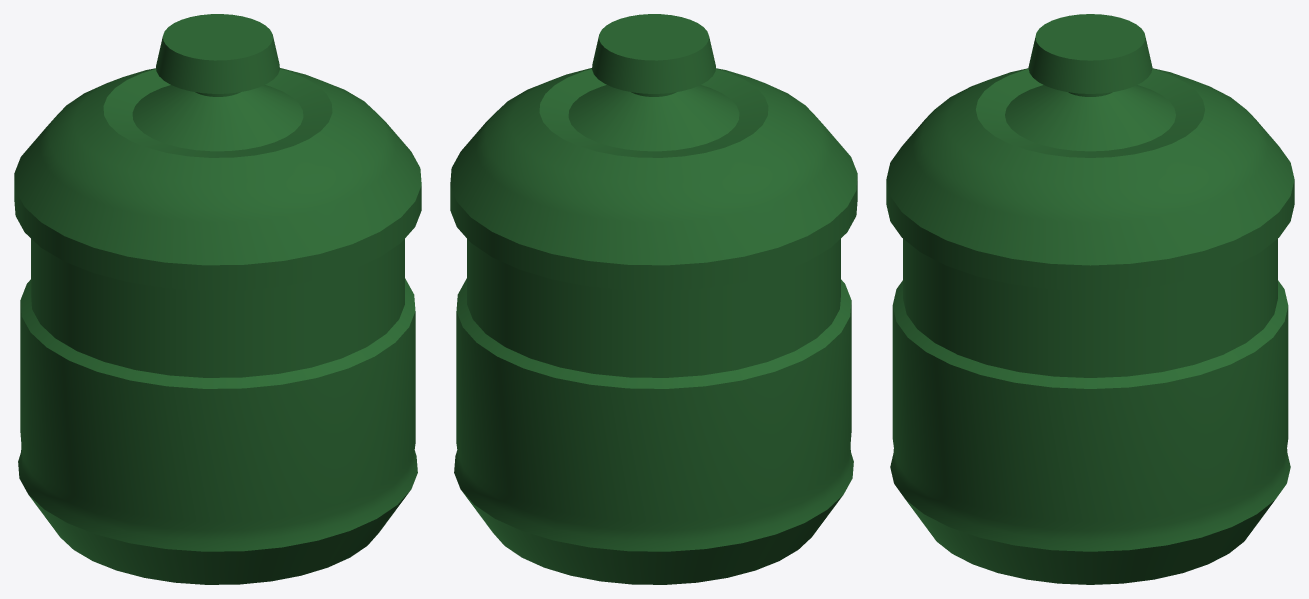
File: bottle13.glb
3 renders of one model, left to right at view 1: azimuth 30°, elevation 25°; view 2: azimuth 150°, elevation 25°; view 3: azimuth 270°, elevation 25°, orthographic.
Parts seen in each view (by area): view 1: Bottle13; view 2: Bottle13; view 3: Bottle13.
Boxes of the visible parts, left/top/right/bottom form: Bottle13: left=14, top=14, right=421, bottom=584; Bottle13: left=450, top=14, right=857, bottom=584; Bottle13: left=886, top=14, right=1294, bottom=584.
Bounding box in the file's own units: 0.5854 × 0.7552 × 0.5854.
